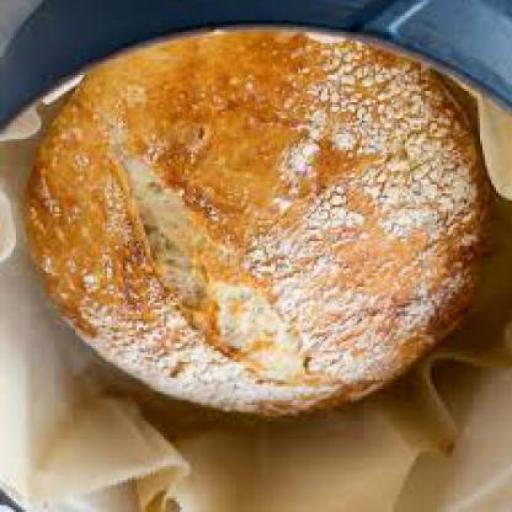biodegradable: (23, 34, 487, 421)
